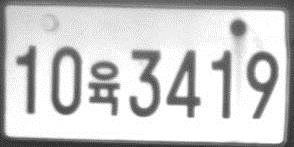0: (51, 45, 81, 115)
1: (211, 47, 233, 121), (15, 43, 37, 114)
3: (129, 47, 160, 118)
4: (165, 49, 201, 118)
9: (245, 49, 279, 120)
육: (87, 59, 121, 117)
